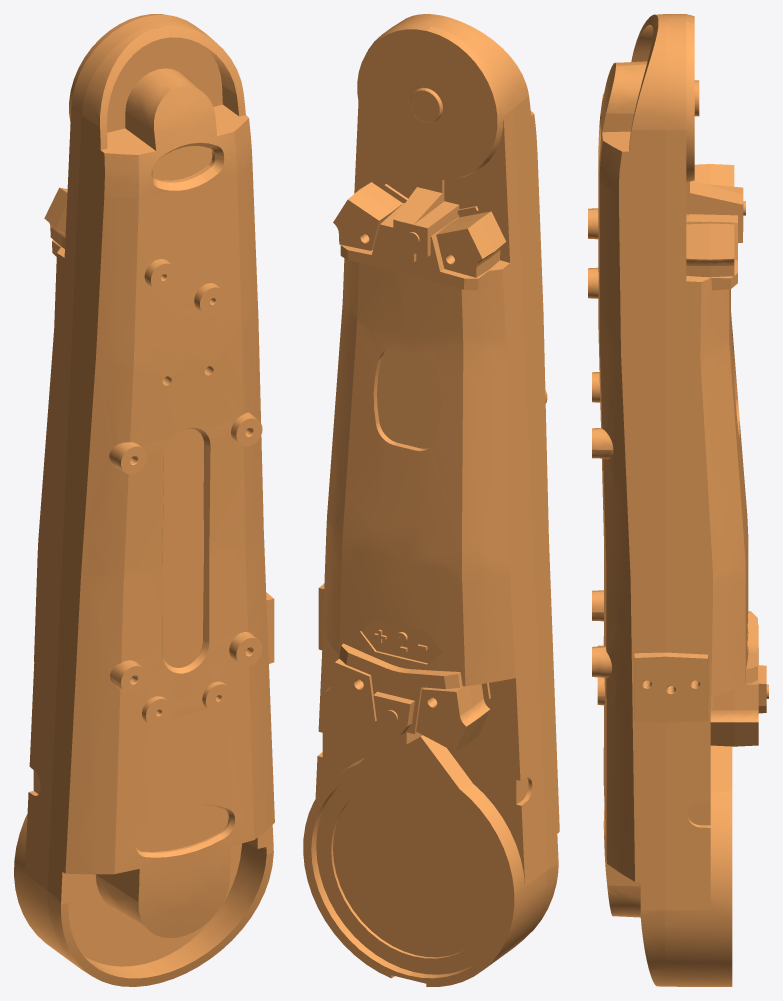
The picture shows the model from 3 angles, left to right: view 1: azimuth 30°, elevation 25°; view 2: azimuth 150°, elevation 25°; view 3: azimuth 270°, elevation 25°; orthographic projection.
Visible parts, largest first — view 1: mesh_0; view 2: mesh_0; view 3: mesh_0.
Boxes of the visible parts, <box> form: mesh_0: <box>14,14,274,986</box>; mesh_0: <box>303,14,559,986</box>; mesh_0: <box>588,14,768,986</box>.
Size of the model in its own units: 0.2048 by 0.8725 by 0.15.
